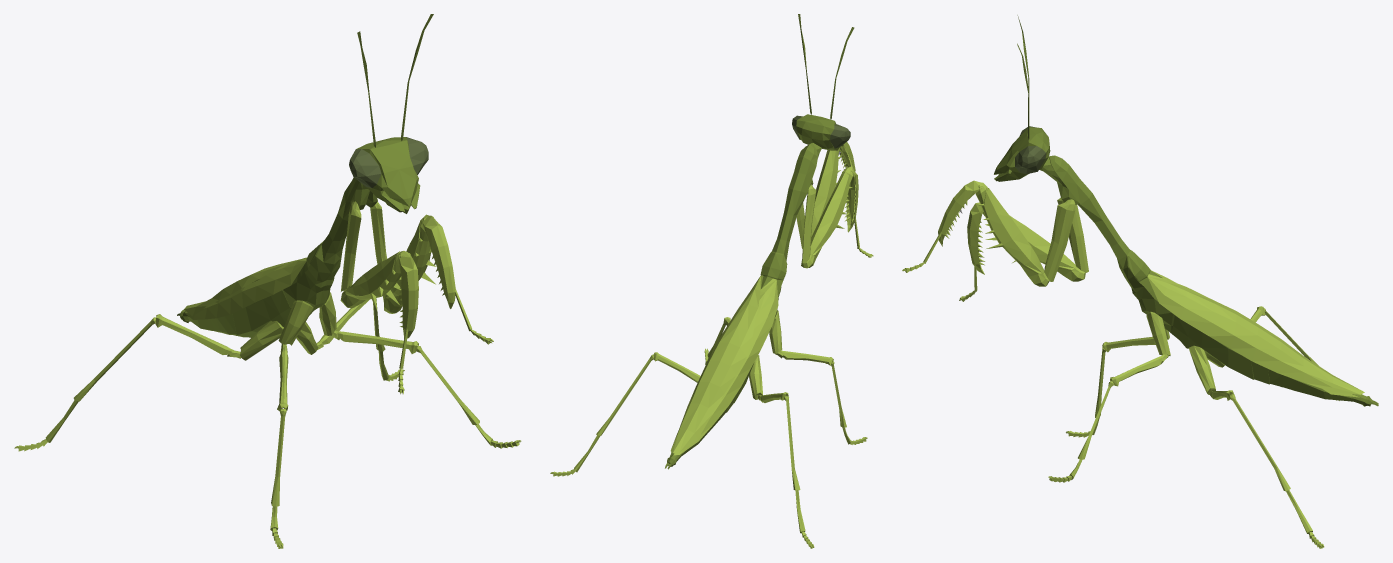
File: mantis.fbx
The picture shows the model from 3 angles, left to right: view 1: azimuth 30°, elevation 25°; view 2: azimuth 150°, elevation 25°; view 3: azimuth 270°, elevation 25°; orthographic projection. The views are drawn at different scales.
Parts seen in each view (by area): view 1: mantis_leg5; view 2: mantis_leg5; view 3: mantis_leg5.
Part boxes in pixels (x1=…): mantis_leg5: x1=14, y1=14, x2=521, y2=548; mantis_leg5: x1=550, y1=14, x2=873, y2=548; mantis_leg5: x1=902, y1=15, x2=1378, y2=548.
Size of the model in its own units: 141 by 186 by 191.
